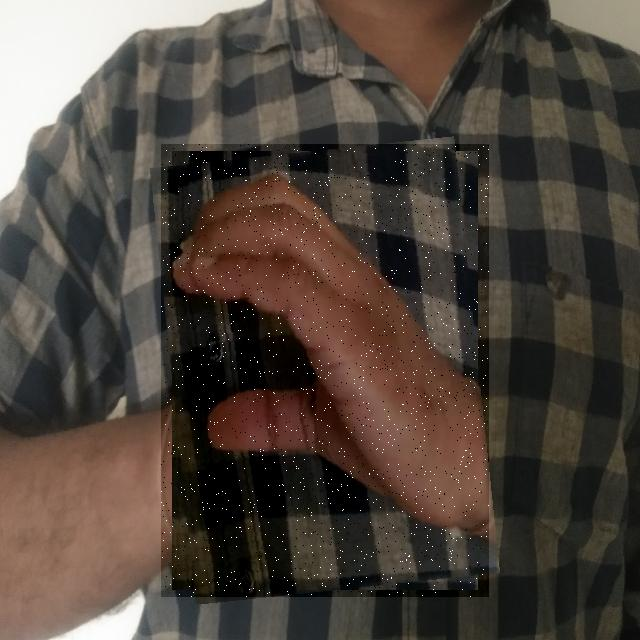C: (161, 144, 489, 597)
